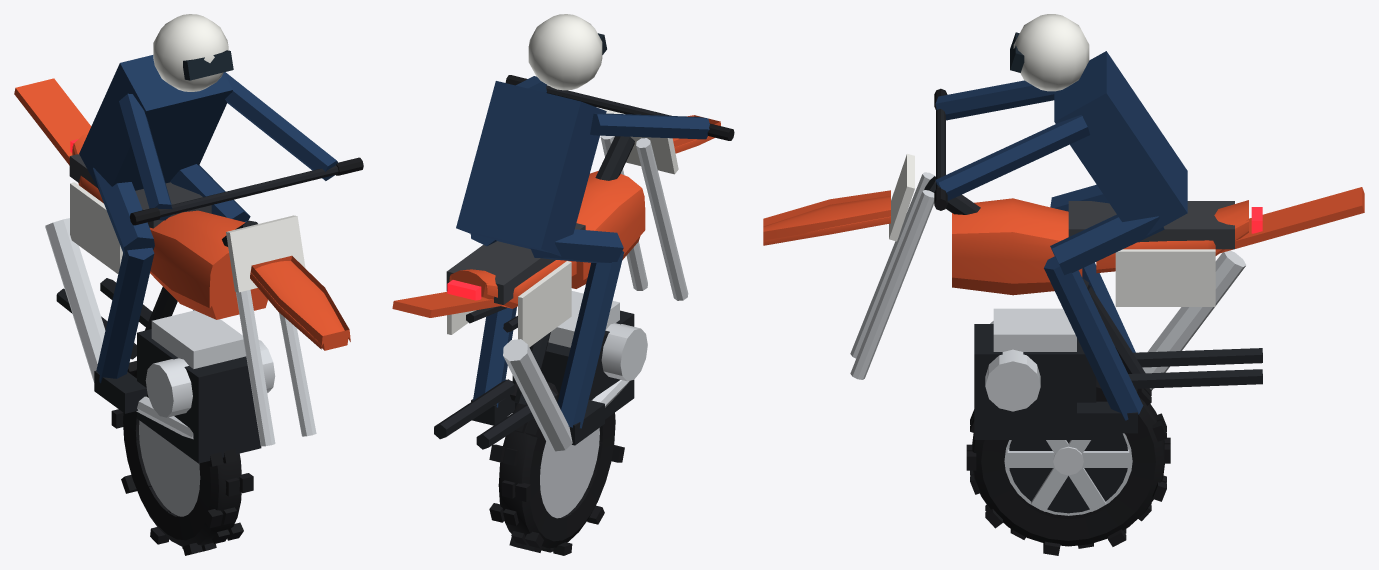
The picture shows the model from 3 angles, left to right: view 1: azimuth 30°, elevation 25°; view 2: azimuth 150°, elevation 25°; view 3: azimuth 270°, elevation 25°; orthographic projection. The views are drawn at different scales.
Parts seen in each view (by area): view 1: body, wheel; view 2: body, wheel; view 3: body, wheel.
Part boxes in pixels (x1,y1,x2,y2): body: [14, 14, 363, 463]; wheel: [111, 361, 253, 555]; body: [392, 14, 734, 451]; wheel: [489, 382, 624, 555]; body: [763, 14, 1364, 439]; wheel: [966, 379, 1170, 555].
Size of the model in its own units: 0.94 by 2.1 by 2.17.
